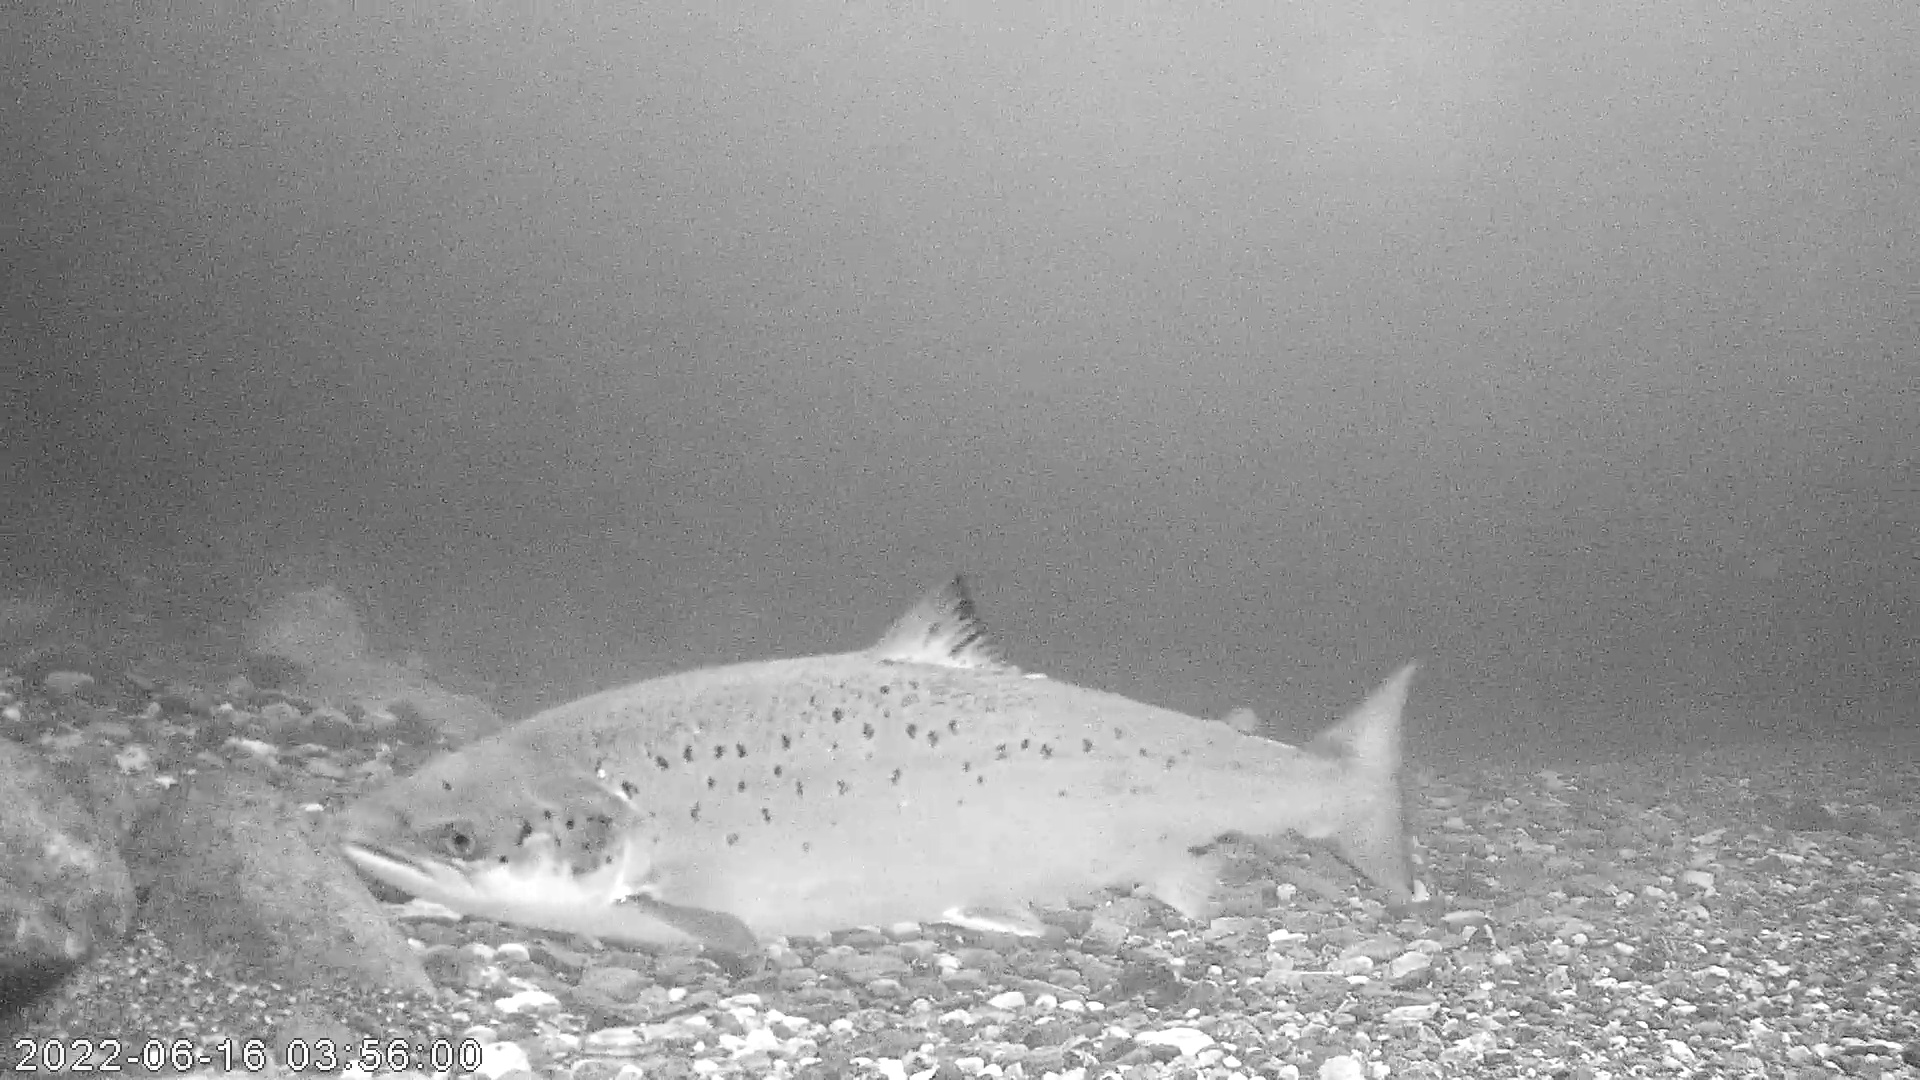salmon: (331, 568, 1418, 953)
